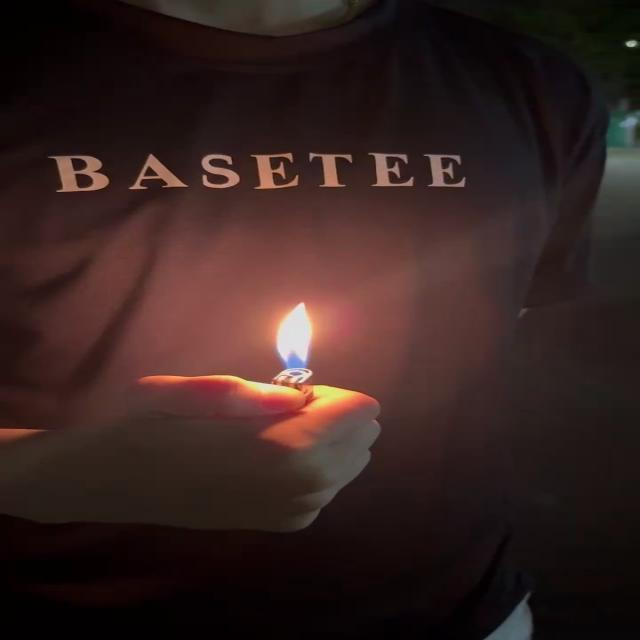Fire: (275, 303, 328, 378)
